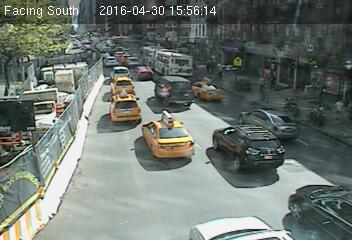neg: (154, 100, 182, 137), (151, 72, 166, 92), (82, 51, 95, 68)
pos: (329, 96, 351, 127)
